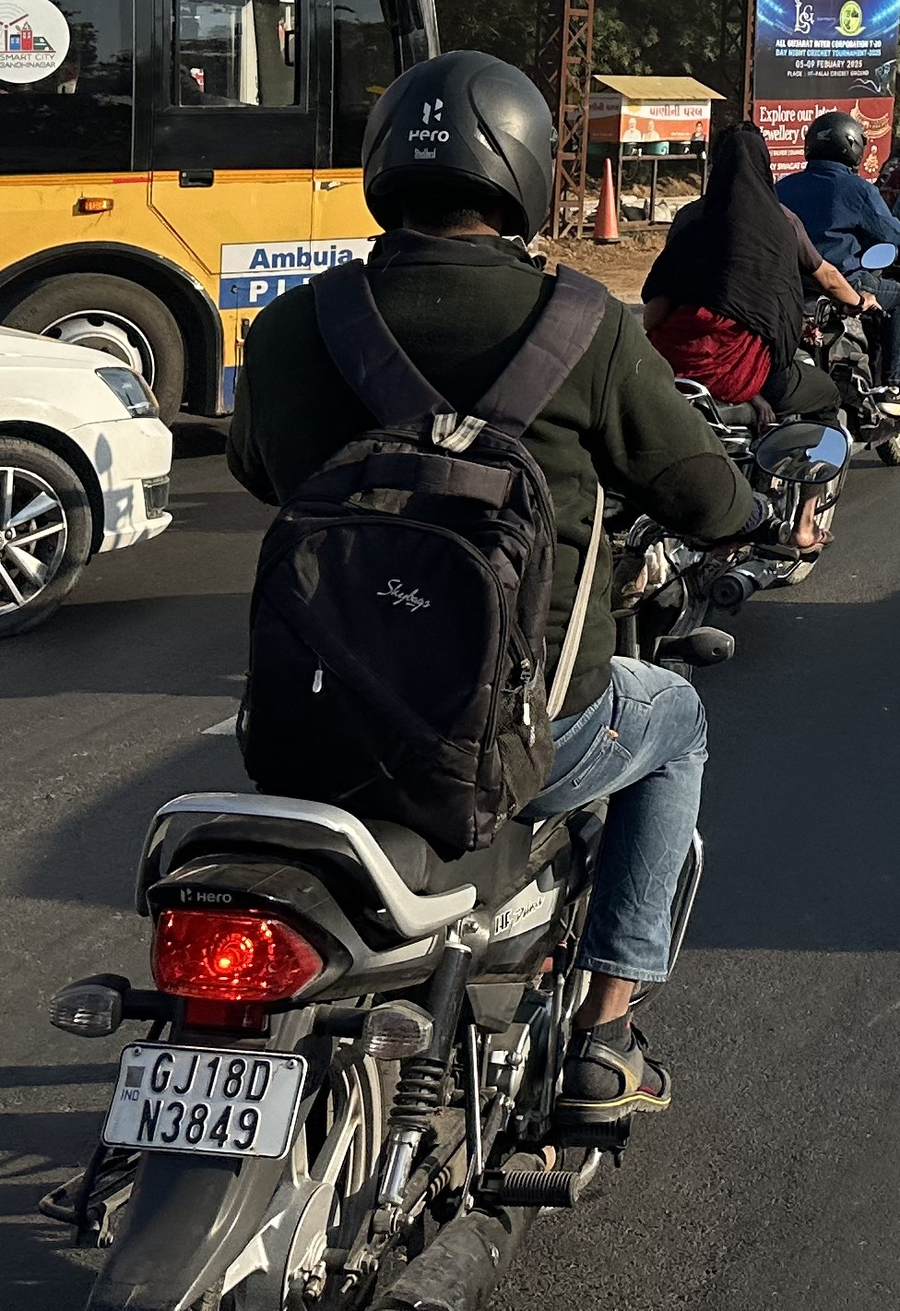BikeWithRider: (30, 35, 861, 1310), (760, 99, 900, 474)
Helmet: (345, 36, 570, 269), (793, 101, 878, 179)
